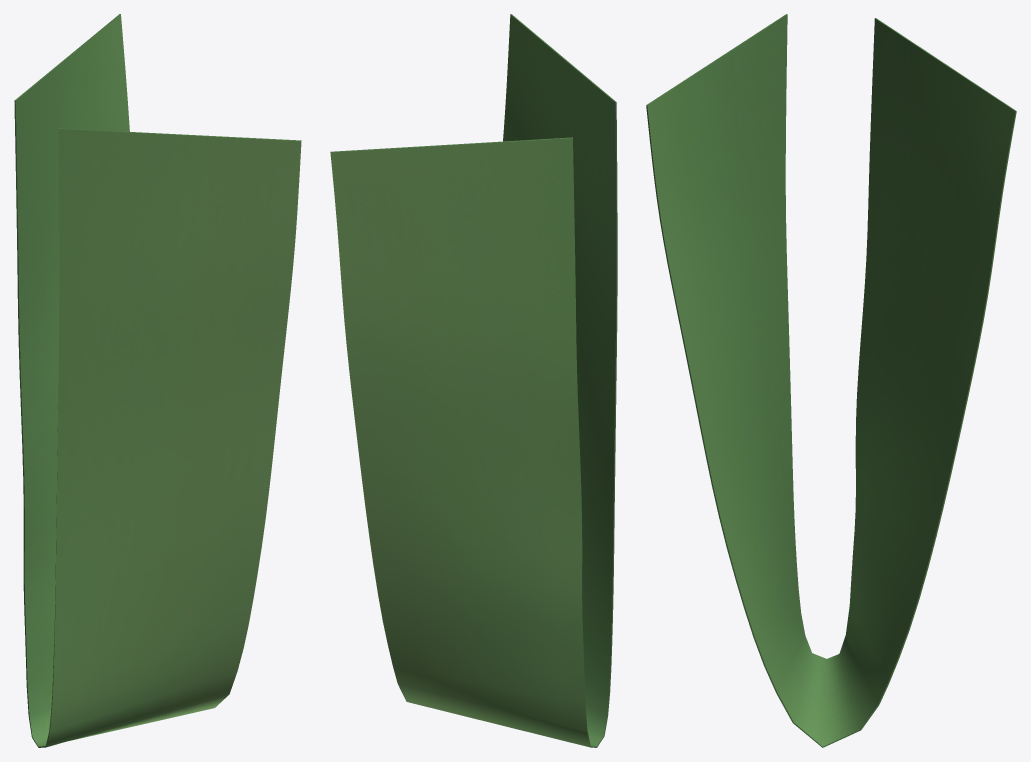
The model's file is y=kx^2 mayor recorrido.FBX.
3 renders of one model, left to right at view 1: azimuth 30°, elevation 25°; view 2: azimuth 150°, elevation 25°; view 3: azimuth 270°, elevation 25°, orthographic. The views are drawn at different scales.
Parts seen in each view (by area): view 1: default; view 2: default; view 3: default.
Part boxes in pixels (x1=…): default: x1=14, y1=14, x2=301, y2=747; default: x1=330, y1=14, x2=617, y2=747; default: x1=646, y1=14, x2=1016, y2=747.
Size of the model in its own units: 2.93 by 10.14 by 5.26.
